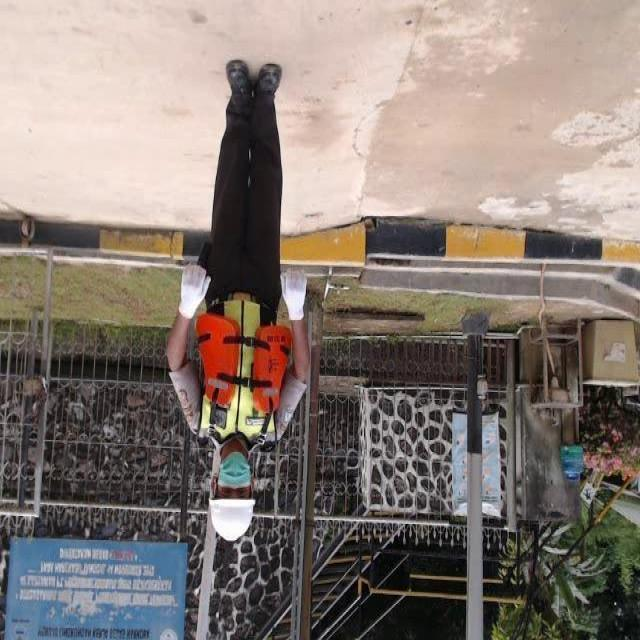gloves: (170, 260, 214, 319), (282, 264, 314, 323)
